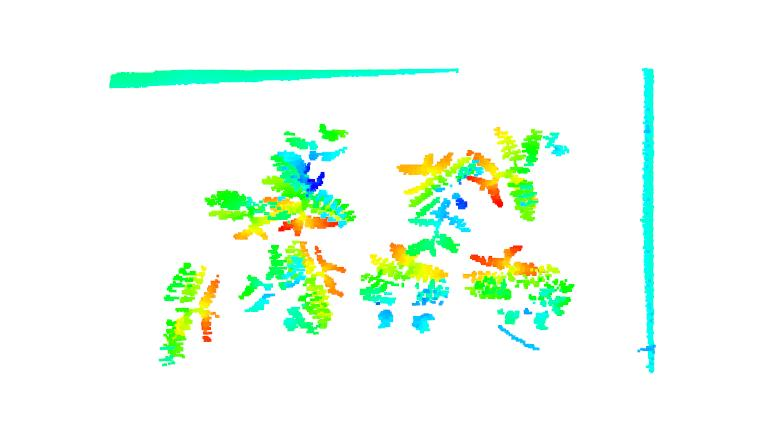chickpea: (201, 119, 356, 242), (461, 124, 573, 226), (232, 240, 347, 336), (382, 150, 481, 256), (462, 247, 578, 331), (361, 240, 452, 333), (151, 262, 224, 373)
